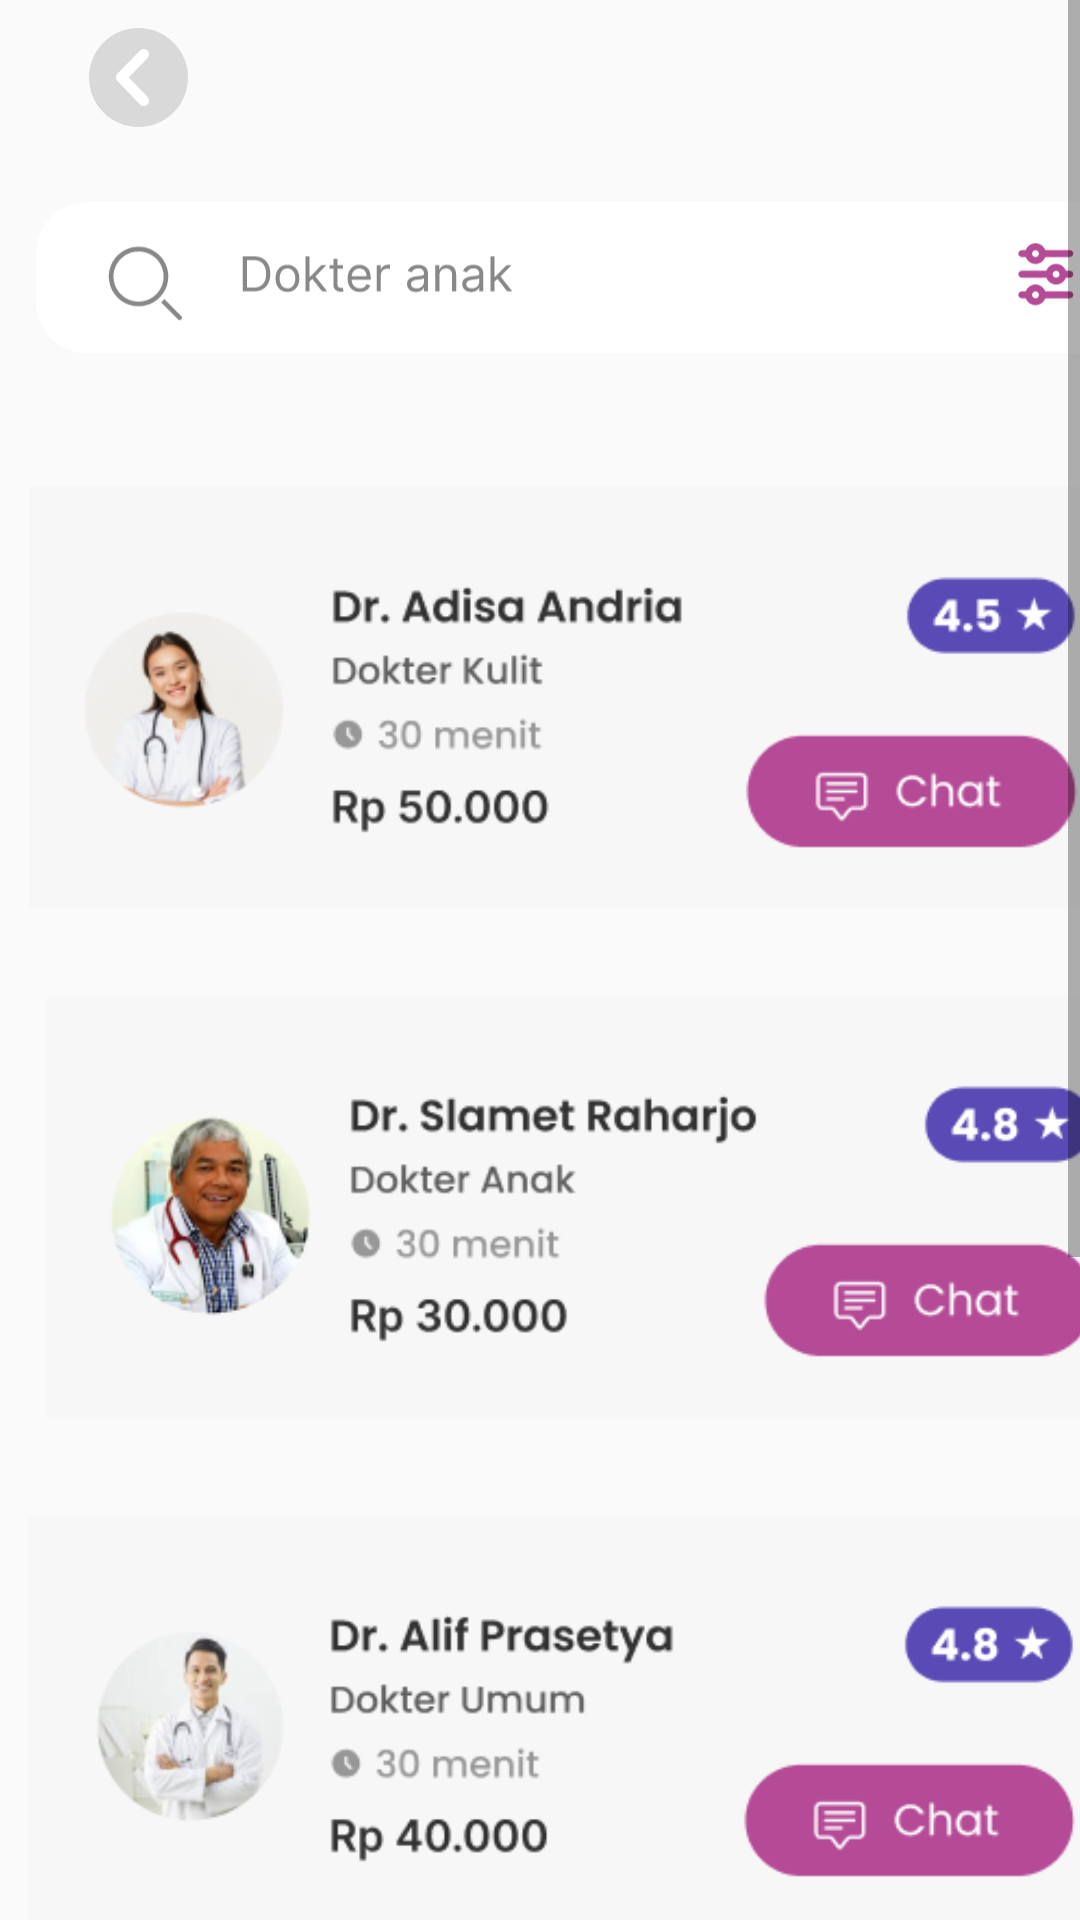

Named icons in this screenshot (1080 × 1920) and their bounding boxes, (x1, y1, x2, y2):
backabu: (89, 28, 188, 127)
